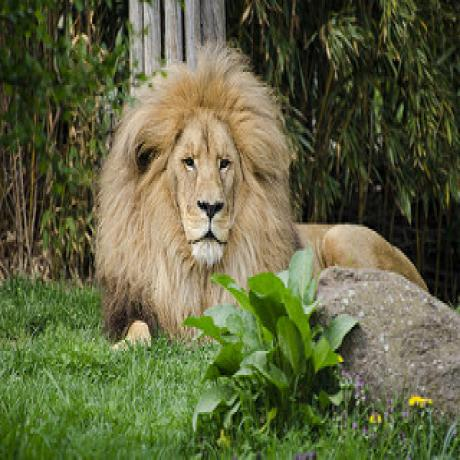Lion: (98, 37, 430, 341)
